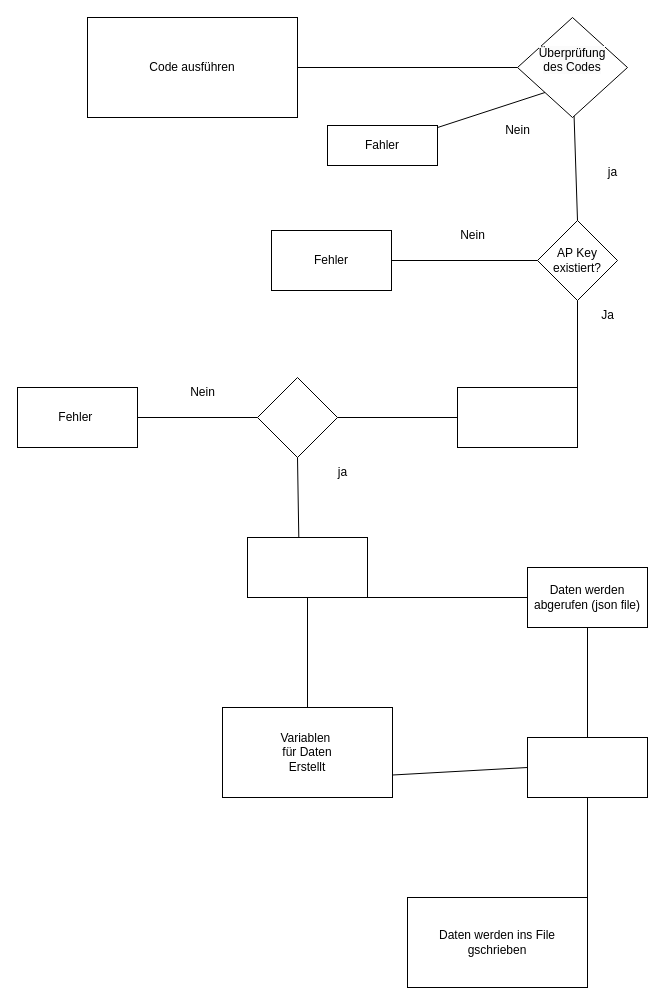
This 666x1005 diagram has some shape labels left out. Each missing label, with the centre of its shape:
"abragen von openeweather" goes at (307,567).
"HTML File erstellt, Settings" goes at (587,767).
"Stadt existiert" goes at (297,417).
"weiter" goes at (517,417).
